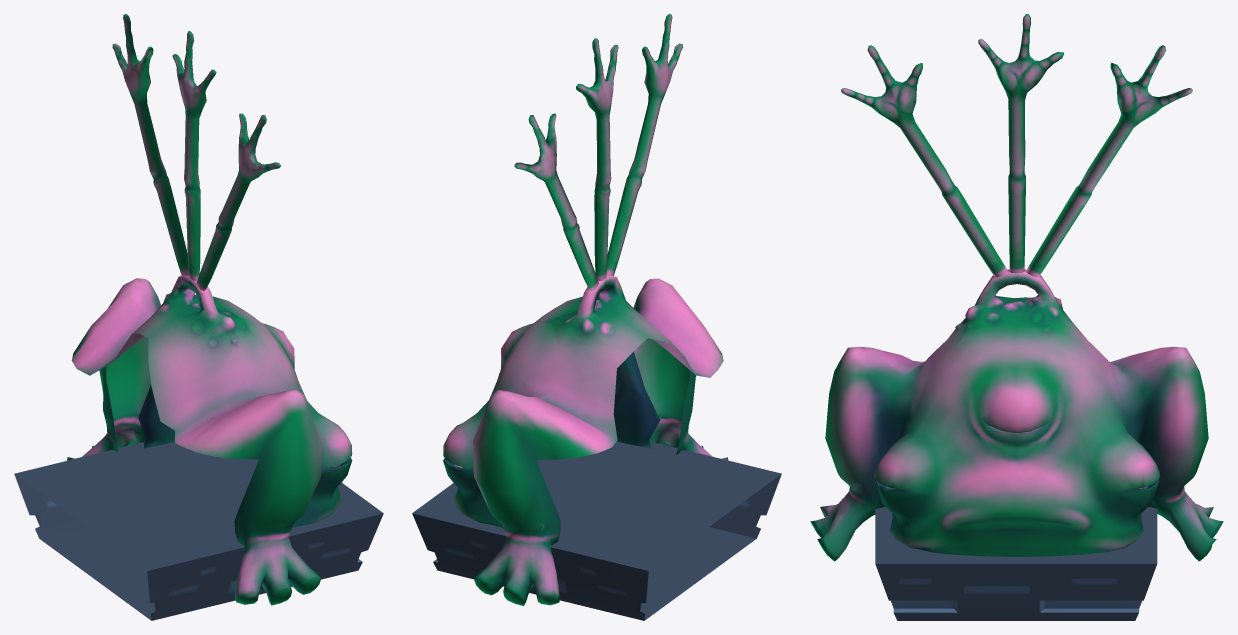
Rendered from TiensBellFrog_Frog.fbx.
3 views of the same model, side by side, from view 1: azimuth 30°, elevation 25°; view 2: azimuth 150°, elevation 25°; view 3: azimuth 270°, elevation 25° (orthographic). The views are drawn at different scales.
Visible parts, largest first — view 1: Frog_Body, Brick, L_Arm, M_Arm, R_arm; view 2: Frog_Body, Brick, R_arm, M_Arm, L_Arm; view 3: Frog_Body, Brick, M_Arm, L_Arm, R_arm.
Boxes of the visible parts, x1=… form: Frog_Body: x1=67, y1=275, x2=352, y2=605; Brick: x1=14, y1=442, x2=383, y2=620; L_Arm: x1=112, y1=14, x2=188, y2=275; M_Arm: x1=172, y1=31, x2=216, y2=280; R_arm: x1=196, y1=113, x2=280, y2=290; Frog_Body: x1=443, y1=275, x2=728, y2=605; Brick: x1=412, y1=441, x2=781, y2=620; R_arm: x1=606, y1=14, x2=682, y2=275; M_Arm: x1=576, y1=38, x2=618, y2=281; L_Arm: x1=514, y1=113, x2=598, y2=290; Frog_Body: x1=810, y1=269, x2=1223, y2=561; Brick: x1=875, y1=507, x2=1157, y2=620; M_Arm: x1=978, y1=14, x2=1063, y2=272; L_Arm: x1=1025, y1=45, x2=1192, y2=277; R_arm: x1=841, y1=45, x2=1008, y2=277.
Size of the model in its own units: 1.74 by 3.65 by 2.48.
